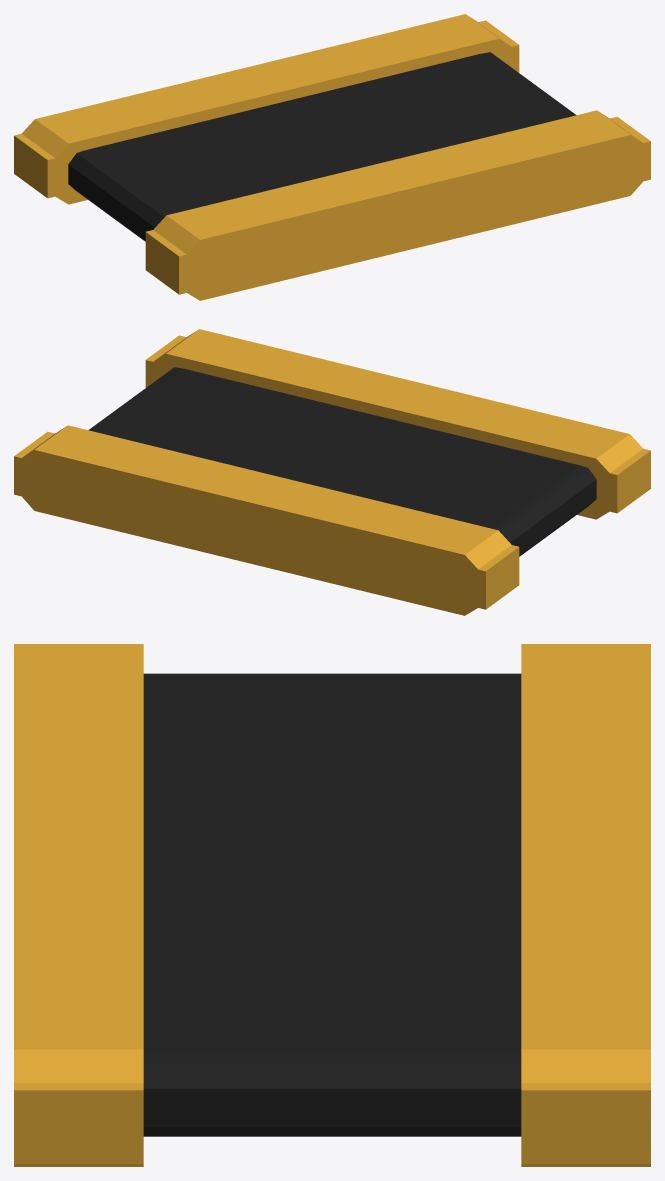
Rendered from BoostPad.fbx.
The picture shows the model from 3 angles, top to bottom: view 1: azimuth 30°, elevation 25°; view 2: azimuth 150°, elevation 25°; view 3: azimuth 270°, elevation 25°; orthographic projection. The views are drawn at different scales.
Visible parts, largest first — view 1: Cube.001, Cube, Cube.002; view 2: Cube.002, Cube, Cube.001; view 3: Cube, Cube.001, Cube.002.
Boxes of the visible parts, bbox=[...] form: Cube.001: bbox=[145, 110, 650, 300]; Cube: bbox=[68, 52, 576, 241]; Cube.002: bbox=[14, 14, 519, 204]; Cube.002: bbox=[14, 425, 519, 615]; Cube: bbox=[88, 367, 596, 556]; Cube.001: bbox=[145, 329, 650, 519]; Cube: bbox=[143, 673, 521, 1136]; Cube.001: bbox=[14, 644, 143, 1166]; Cube.002: bbox=[521, 644, 650, 1166].
Size of the model in its own units: 2484 by 307 by 1506.
